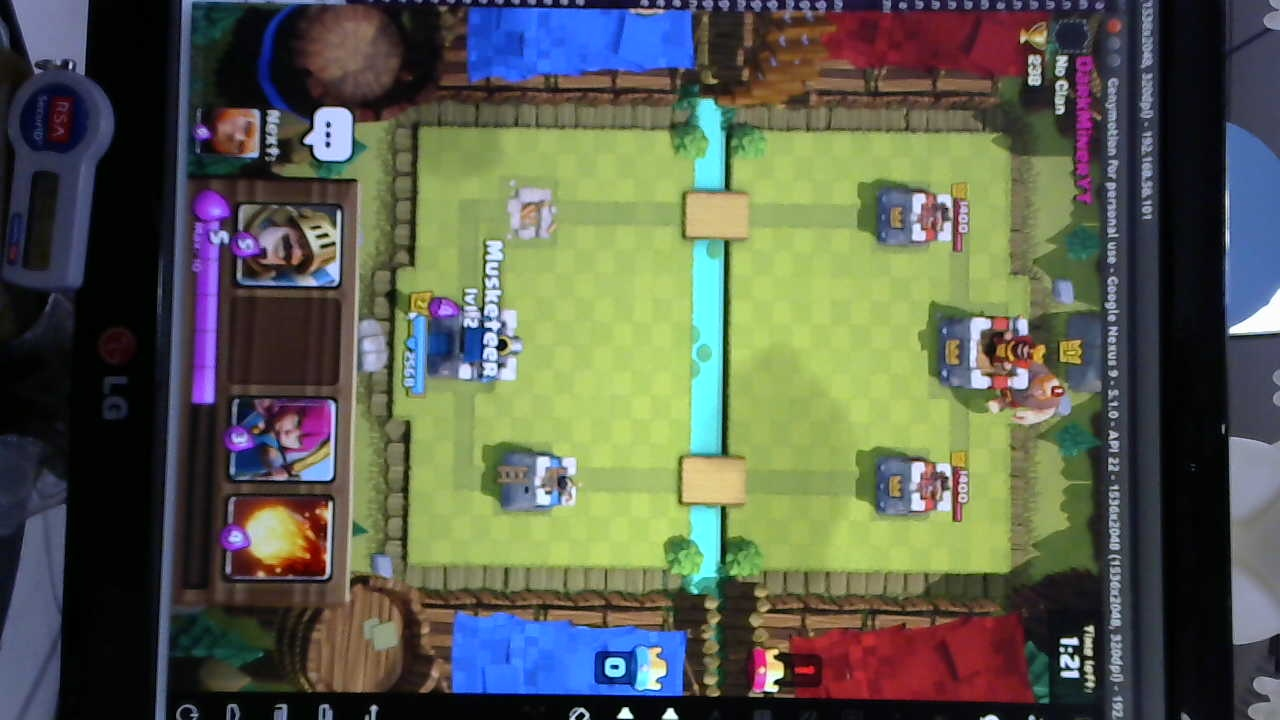arena: (498, 450, 580, 511)
darena: (503, 181, 560, 245)
earena: (873, 456, 956, 519), (873, 188, 956, 247)
eking: (944, 312, 1044, 395)
giant: (989, 361, 1066, 420)
king: (425, 304, 523, 386)
